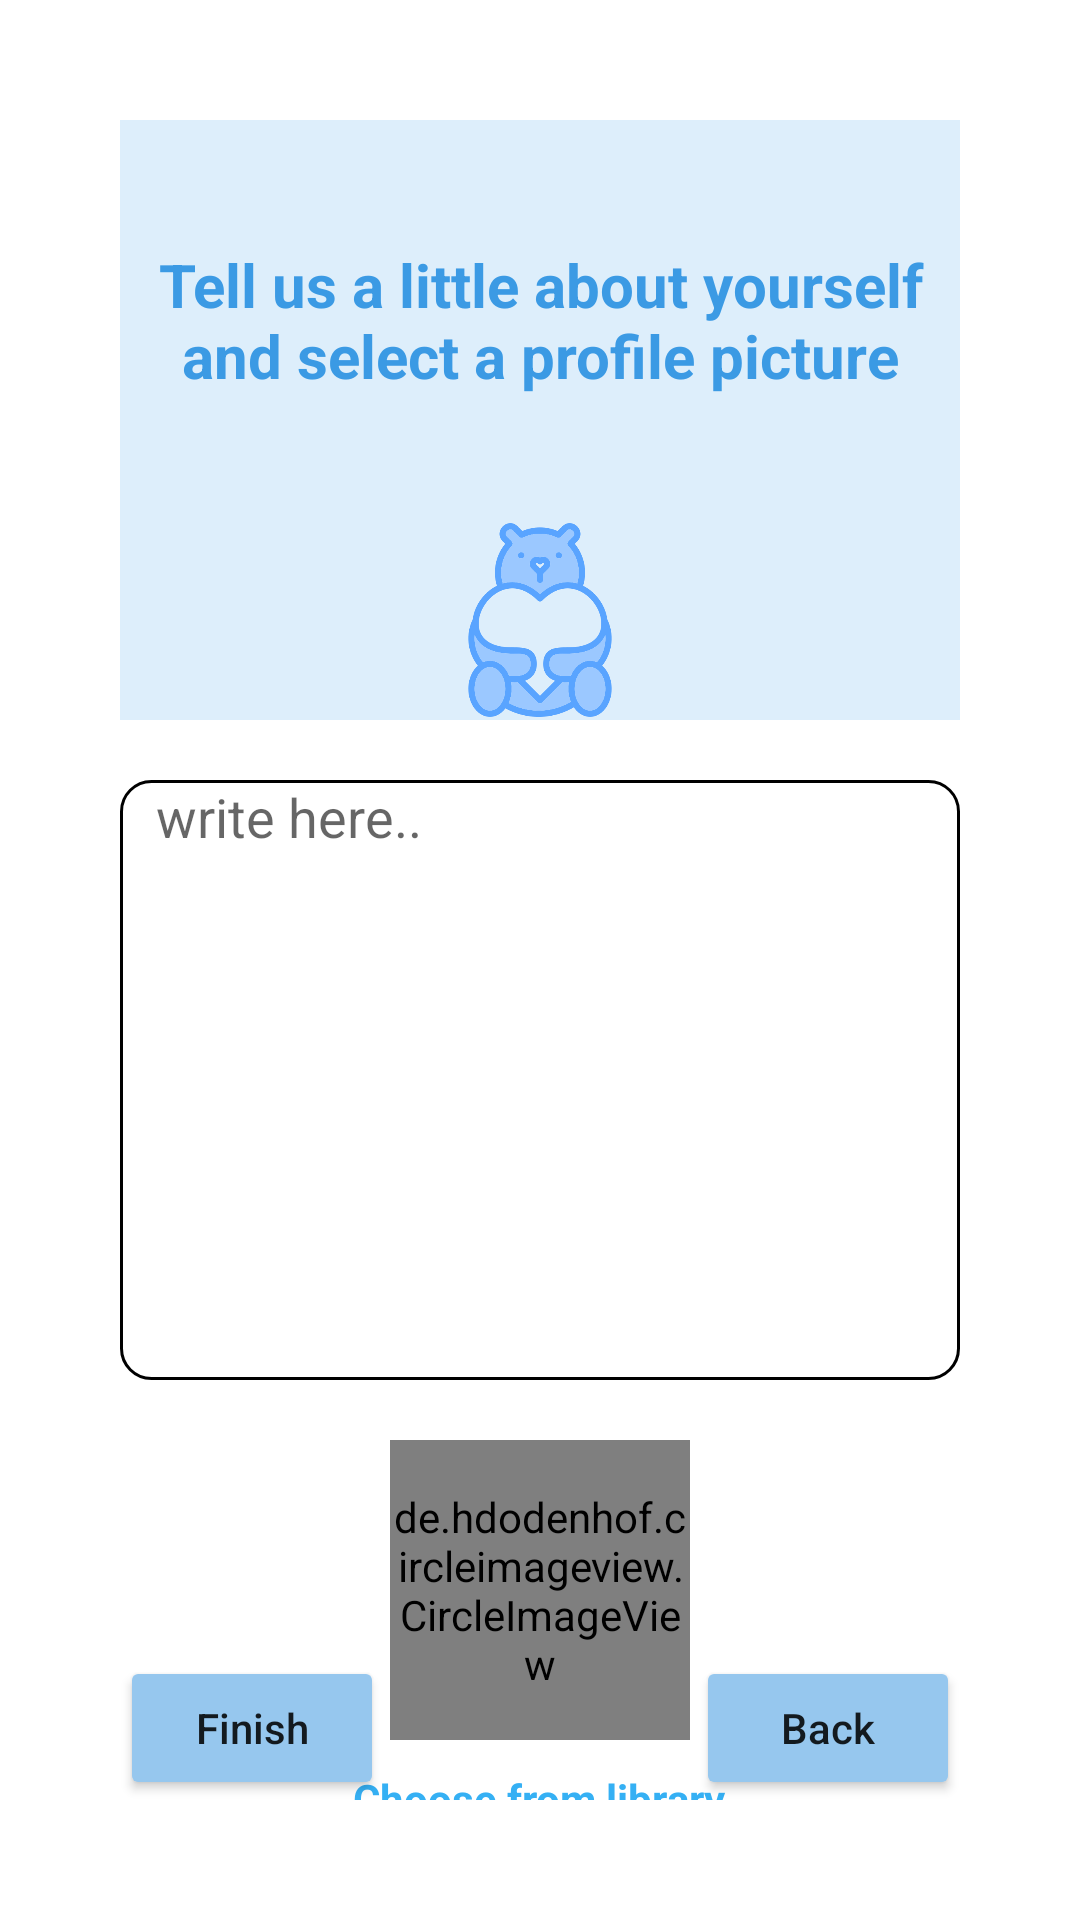

Where to tap for icons on this 1080px×1920px app screen, as (x=x, y=y):
bear: (x=540, y=620)
